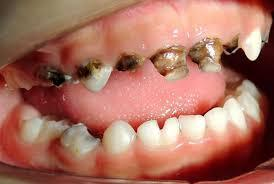Caries: (148, 43, 191, 83), (58, 120, 103, 158), (193, 36, 226, 73), (113, 49, 146, 75), (35, 67, 70, 89), (72, 59, 102, 82)
